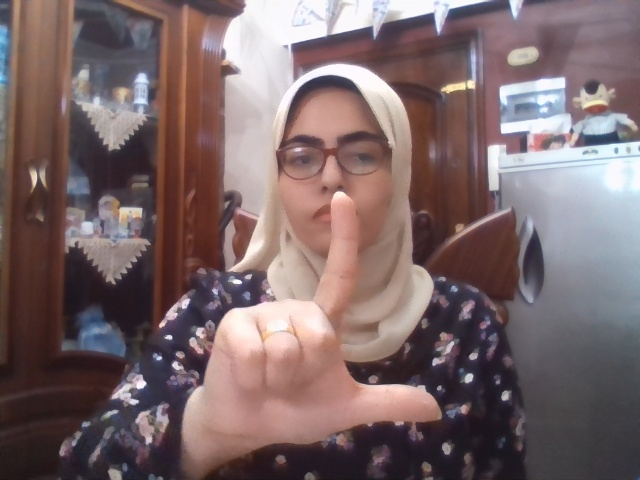L: (202, 191, 443, 448)
